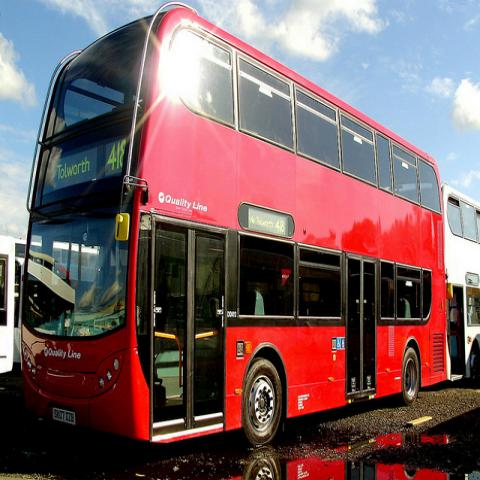bus: (23, 1, 449, 450), (444, 180, 479, 385), (1, 236, 30, 379)
